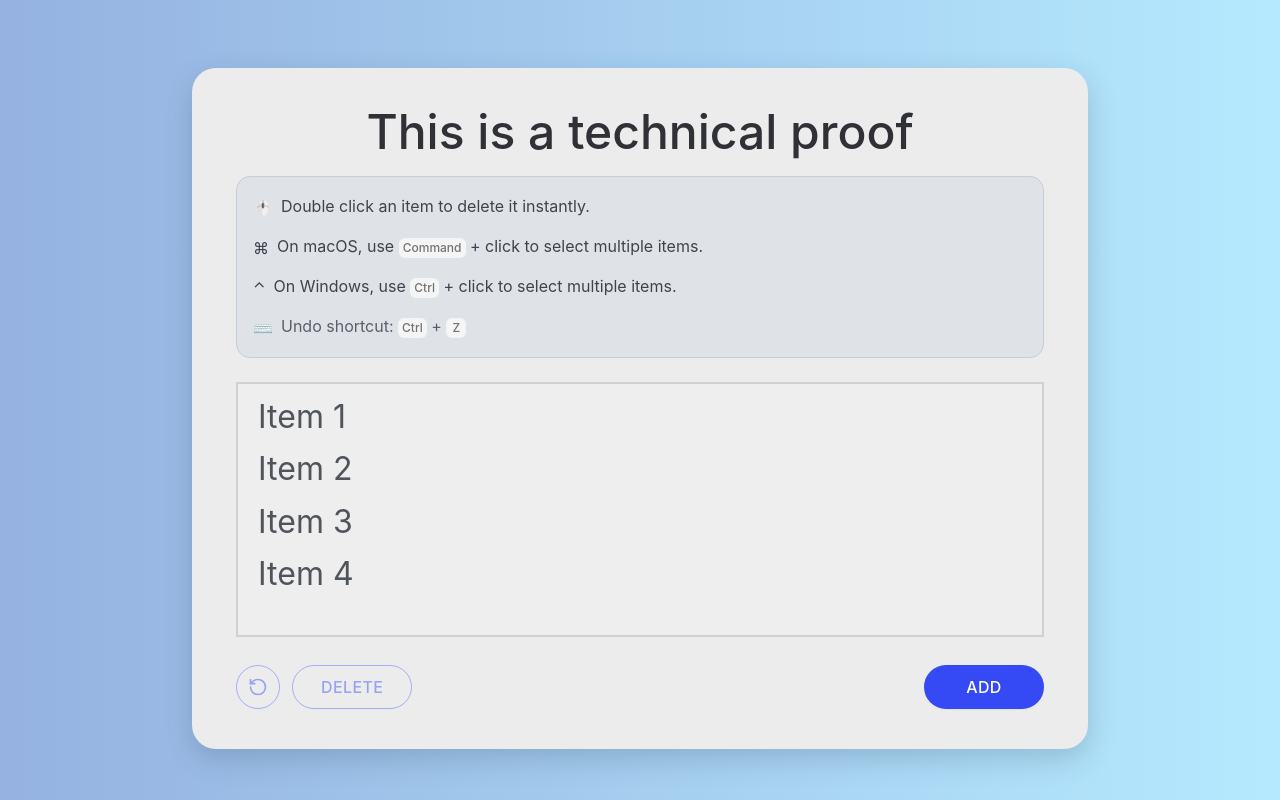
Test case: React list app › undoes the last change
What coordinates should you click on to do the following:
click the list item "Item 2"
I would click on:
 (305, 469)
Its box is x1=246 y1=444 x2=1034 y2=495.
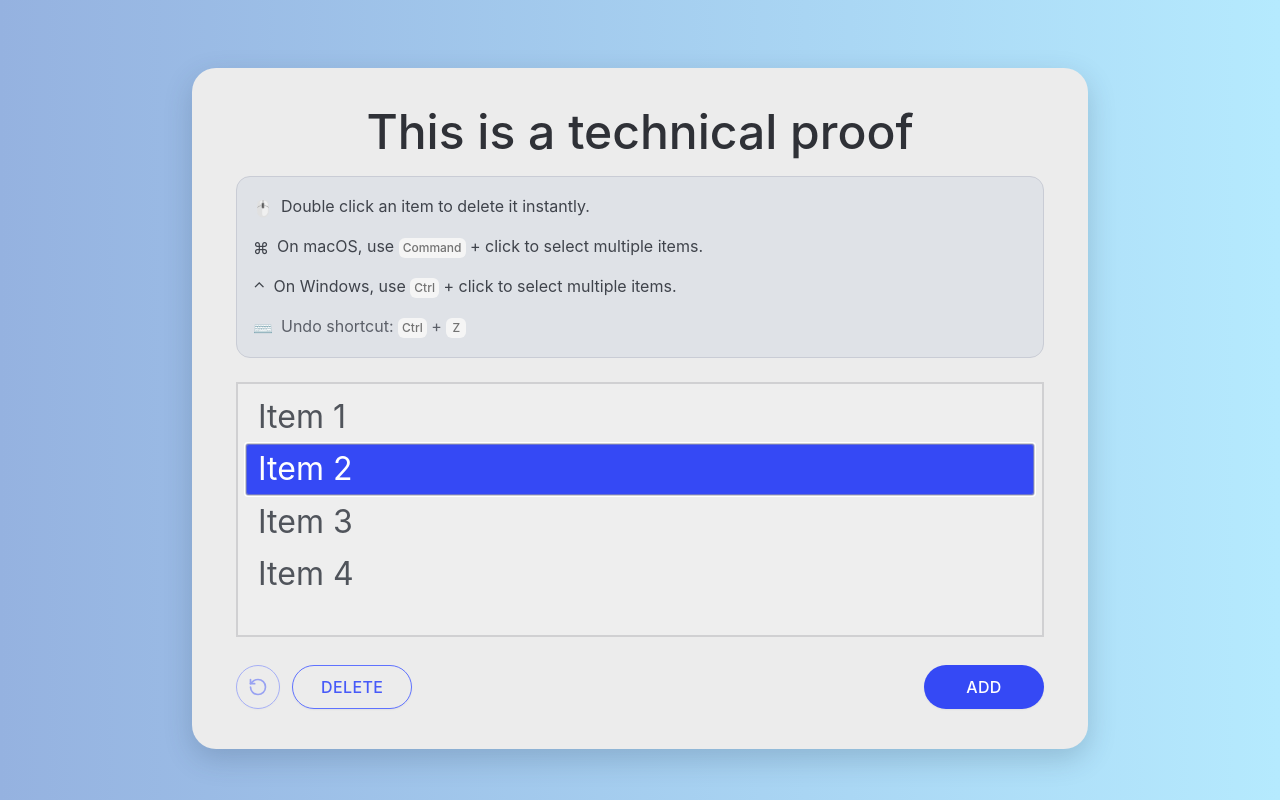
What coordinates should you click on to do the following:
click the button "Delete"
I would click on:
 (352, 686)
Its box is x1=292 y1=664 x2=412 y2=708.
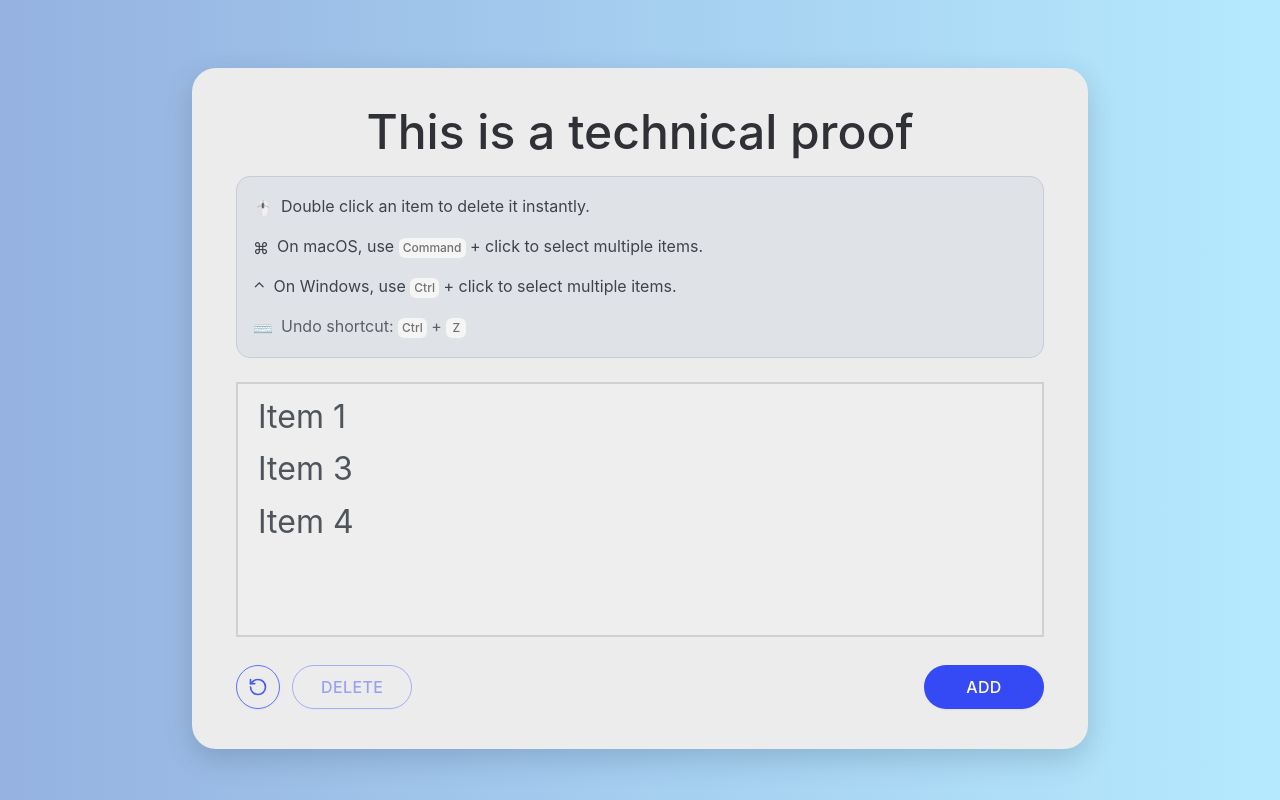
What coordinates should you click on to do the following:
click the button named "undo last action"
I would click on:
 (258, 686)
Its box is x1=236 y1=664 x2=280 y2=708.
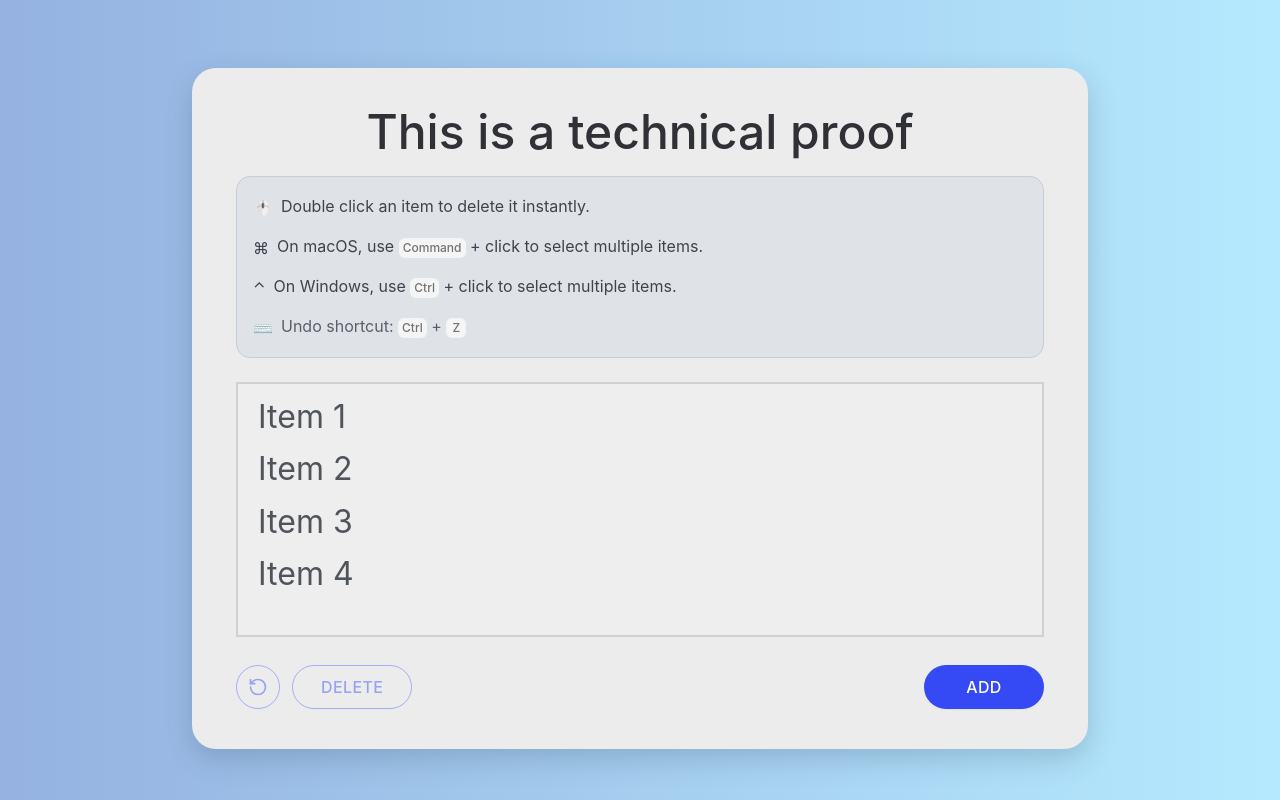
Expected: the list item "Item 2" is shown, x1=246 y1=444 x2=1034 y2=495
